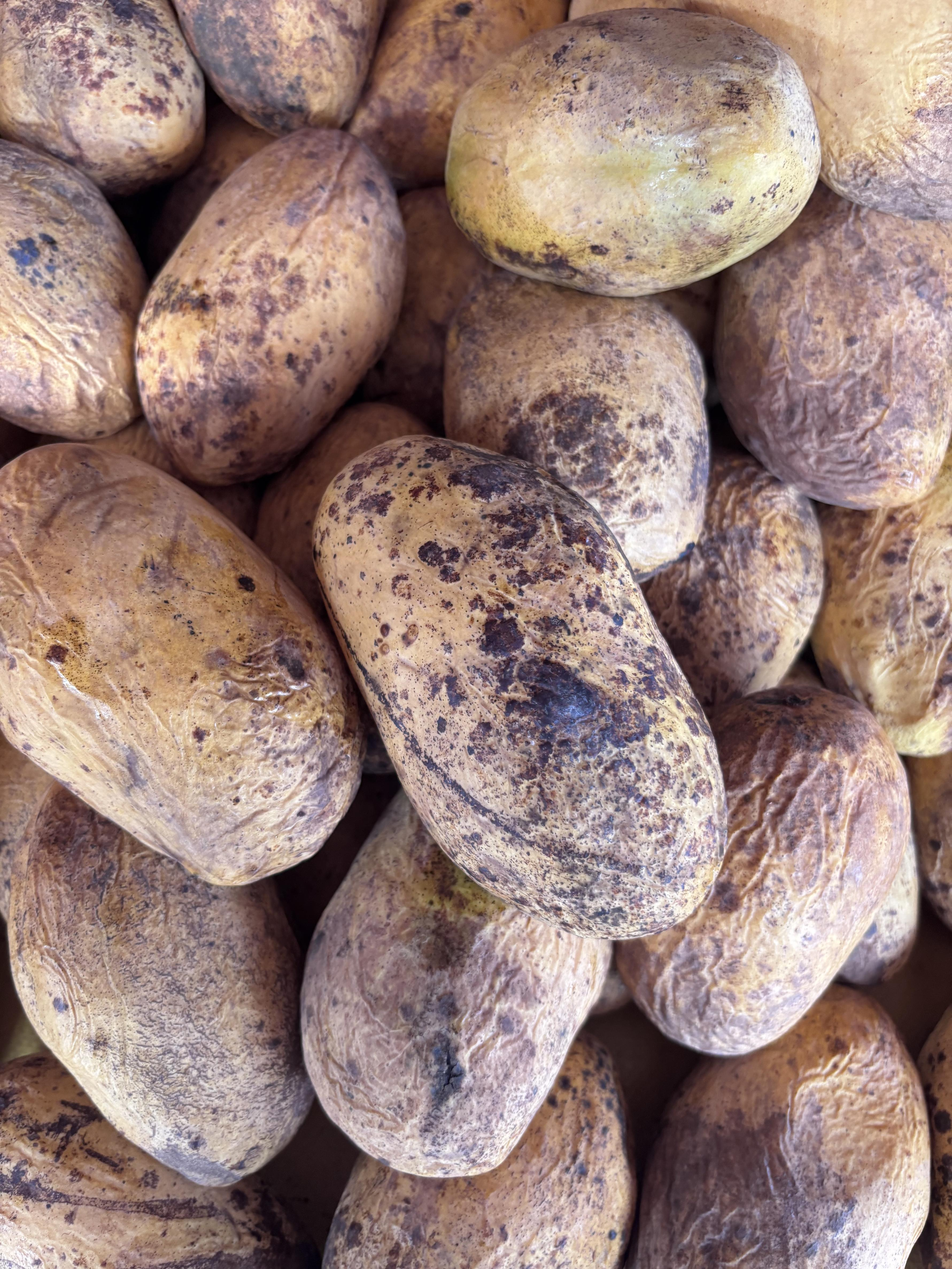mango: (313, 437, 725, 936), (136, 129, 405, 484)
occluded: (0, 444, 363, 885), (9, 786, 314, 1186), (301, 792, 610, 1178), (618, 686, 910, 1055), (629, 987, 930, 1269), (444, 273, 709, 580), (714, 185, 952, 509), (324, 1033, 635, 1269), (0, 1054, 319, 1269), (671, 0, 952, 220), (643, 449, 823, 715), (0, 141, 147, 439), (812, 451, 952, 757), (348, 0, 567, 189), (0, 0, 205, 195), (174, 0, 386, 135)
